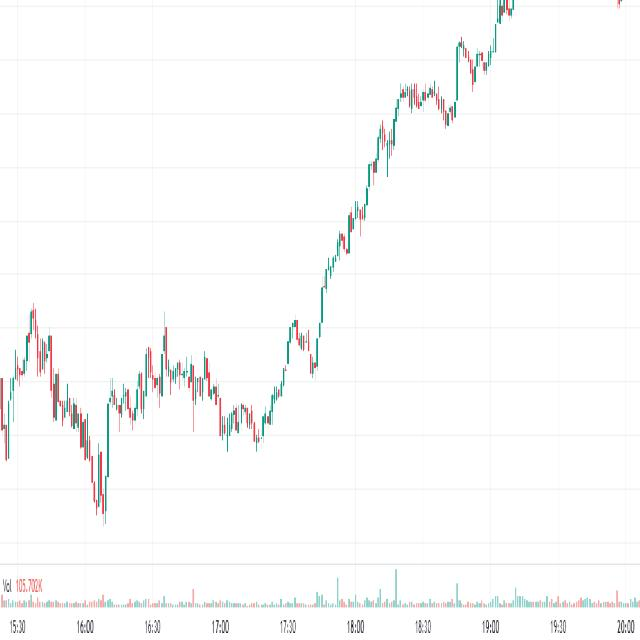Double-Bottom: (86, 437, 114, 536)
Head-Shoulders: (5, 296, 69, 476)
